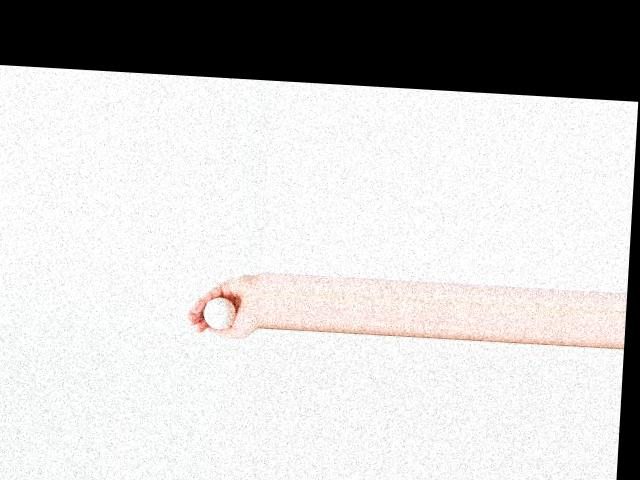egg: (202, 296, 235, 329)
